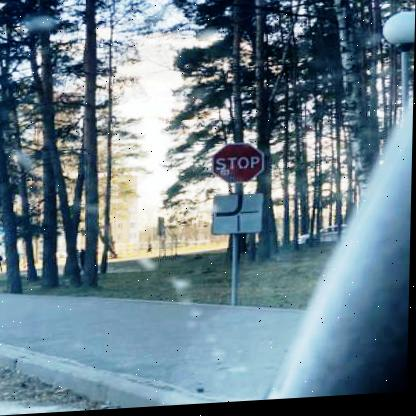Stop Sign: (212, 142, 268, 189)
